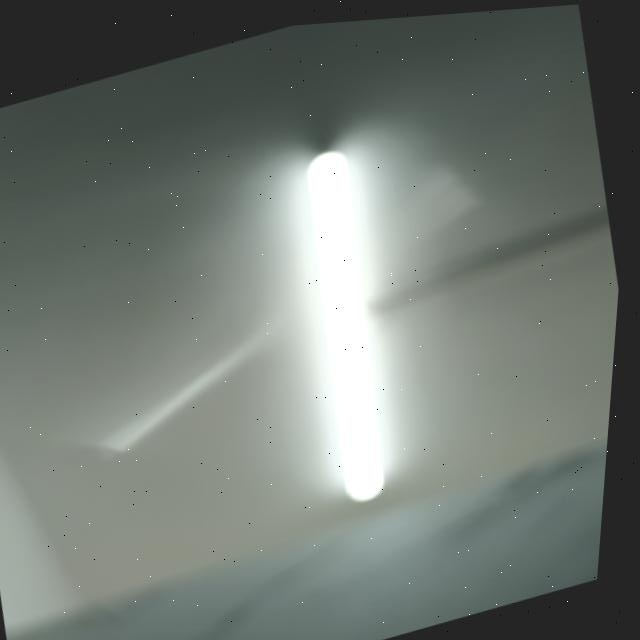fluorescent tube: (245, 108, 456, 521)
